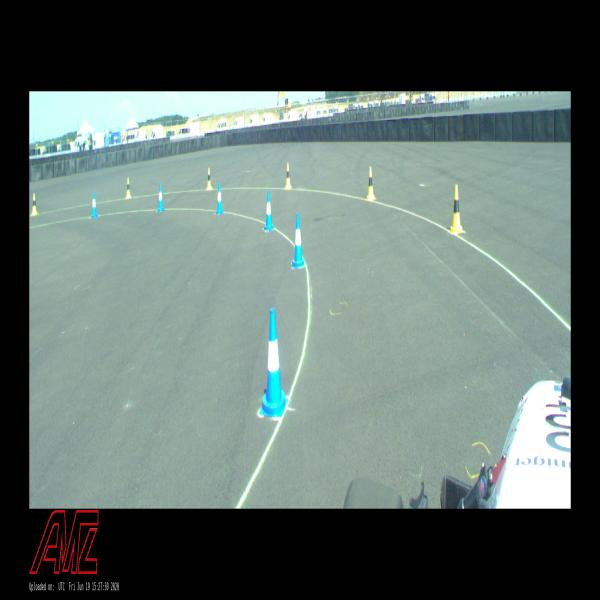blue_cone: (260, 308, 288, 417), (292, 213, 304, 269), (264, 191, 274, 230), (215, 183, 223, 214), (157, 184, 164, 211), (91, 192, 97, 218)
yellow_cone: (450, 185, 464, 233), (366, 167, 376, 200), (285, 163, 291, 189), (31, 194, 38, 215), (207, 168, 212, 189), (126, 178, 131, 199)
